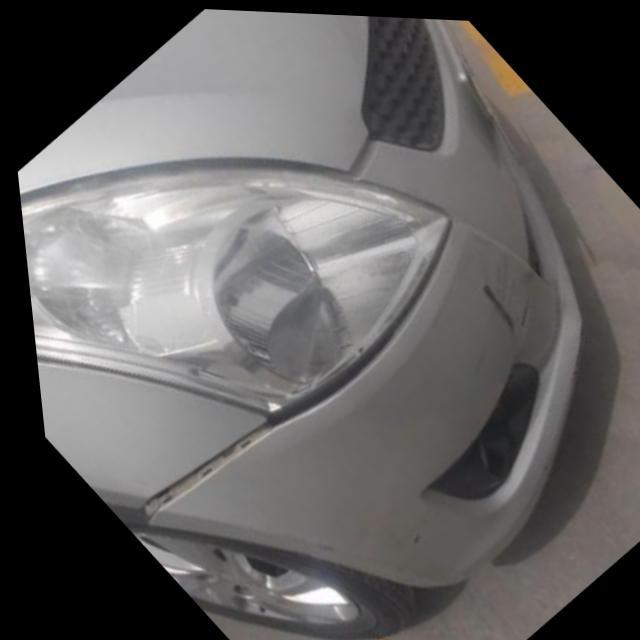crack: (460, 270, 522, 335), (508, 295, 535, 323)
dislocated part: (122, 276, 431, 530)
